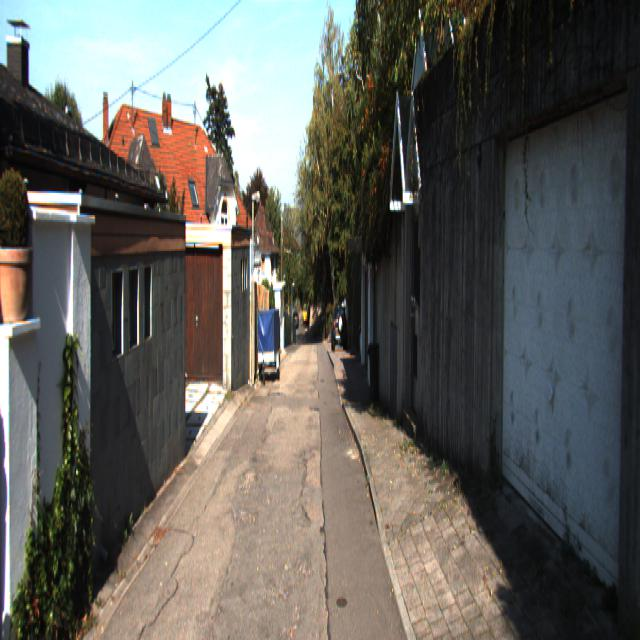Car: (257, 308, 279, 385), (330, 304, 348, 352)
